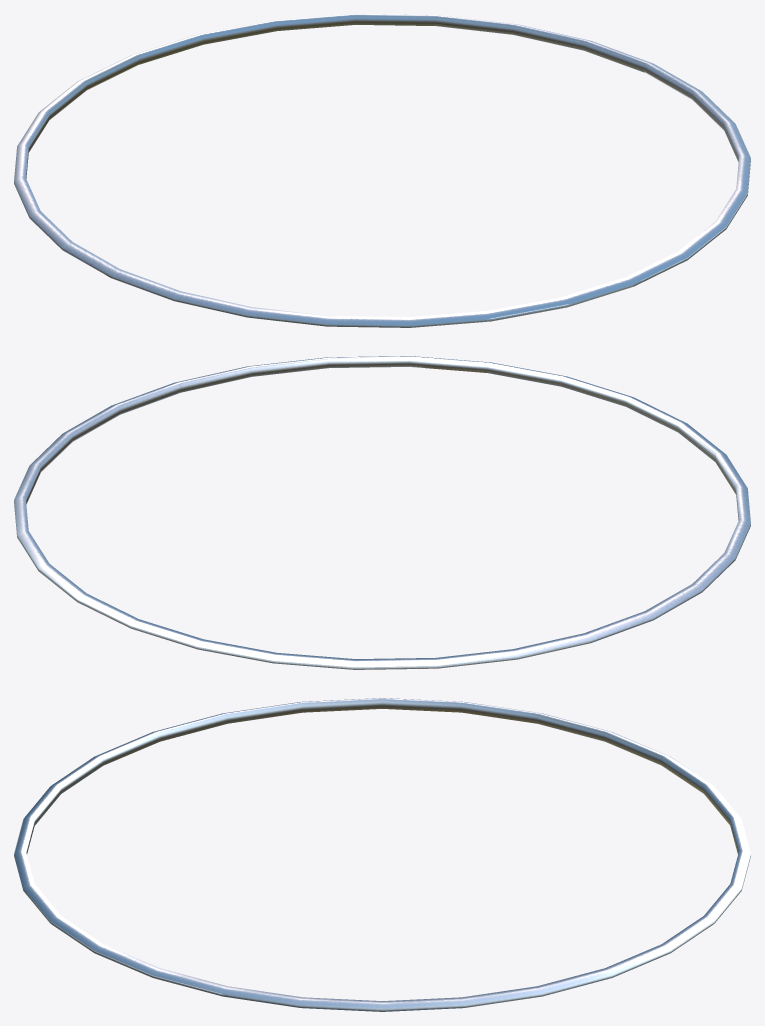
Rendered from ThinRing.glb.
3 renders of one model, top to bottom at view 1: azimuth 30°, elevation 25°; view 2: azimuth 150°, elevation 25°; view 3: azimuth 270°, elevation 25°, orthographic.
Parts seen in each view (by area): view 1: 环体.001; view 2: 环体.001; view 3: 环体.001.
Part boxes in pixels (x1,y1,x2,y2): 环体.001: (14,14,750,327); 环体.001: (14,356,750,669); 环体.001: (14,698,750,1011).
Size of what is drawn, in the model's own units: 8.75 by 0.1212 by 8.75.
Materials: 1 (1 with a texture image).
